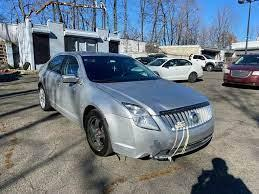Mercury: (185, 109, 204, 127)
